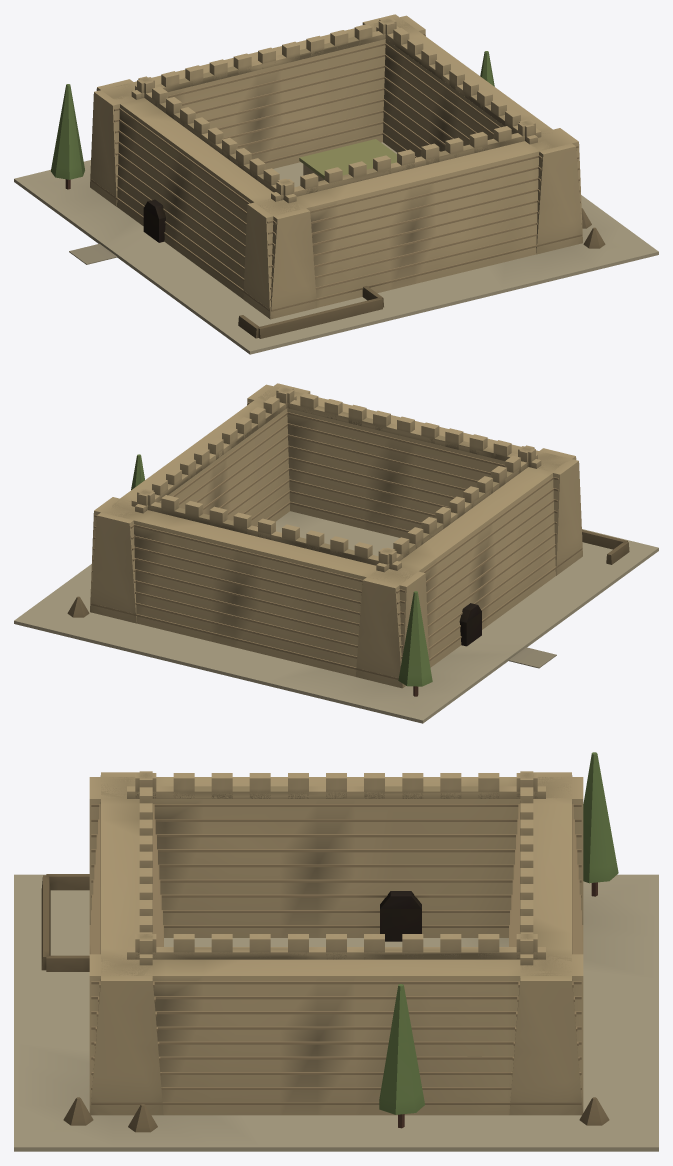
The model's file is han-fort.glb.
3 renders of one model, top to bottom at view 1: azimuth 30°, elevation 25°; view 2: azimuth 150°, elevation 25°; view 3: azimuth 270°, elevation 25°, orthographic. The views are drawn at different scales.
Visible parts, largest first — view 1: p0_walls, p1_corral, p2_trees; view 2: p0_walls, p1_corral, p2_trees; view 3: p0_walls, p1_corral, p2_trees.
Part boxes in pixels (x1,y1,x2,y2): p0_walls: [14, 14, 658, 354]; p1_corral: [131, 17, 541, 338]; p2_trees: [51, 51, 605, 248]; p0_walls: [14, 383, 658, 723]; p1_corral: [131, 386, 629, 572]; p2_trees: [67, 454, 432, 696]; p0_walls: [14, 772, 658, 1151]; p1_corral: [41, 771, 545, 971]; p2_trees: [63, 752, 618, 1132].
Bounding box in the file's own units: 43 × 10.9 × 40.
